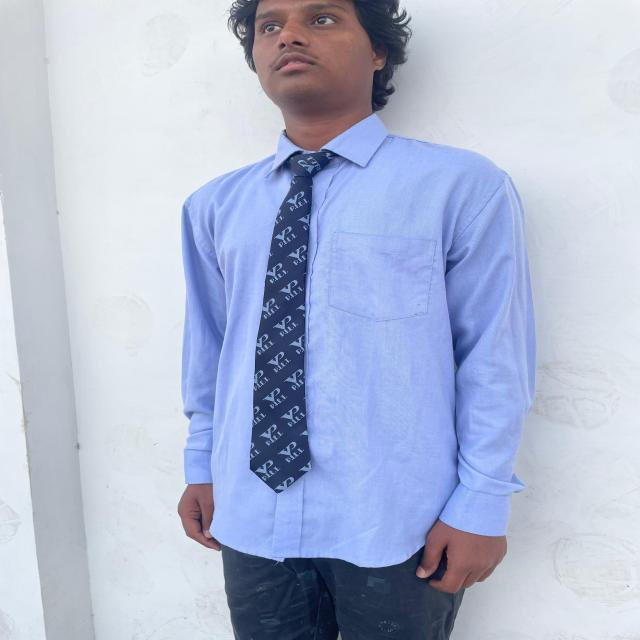Tie: (248, 149, 337, 494)
uniform: (178, 114, 536, 638)
